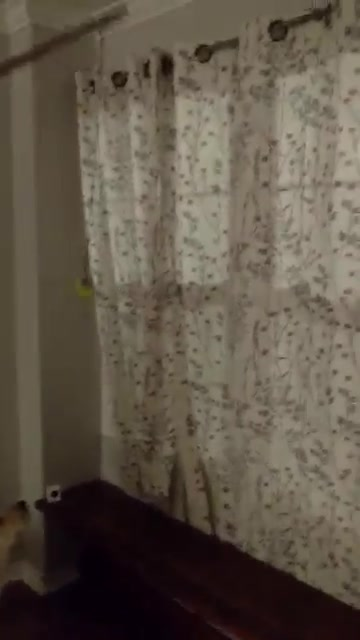tennis_ball: (72, 276, 94, 296)
